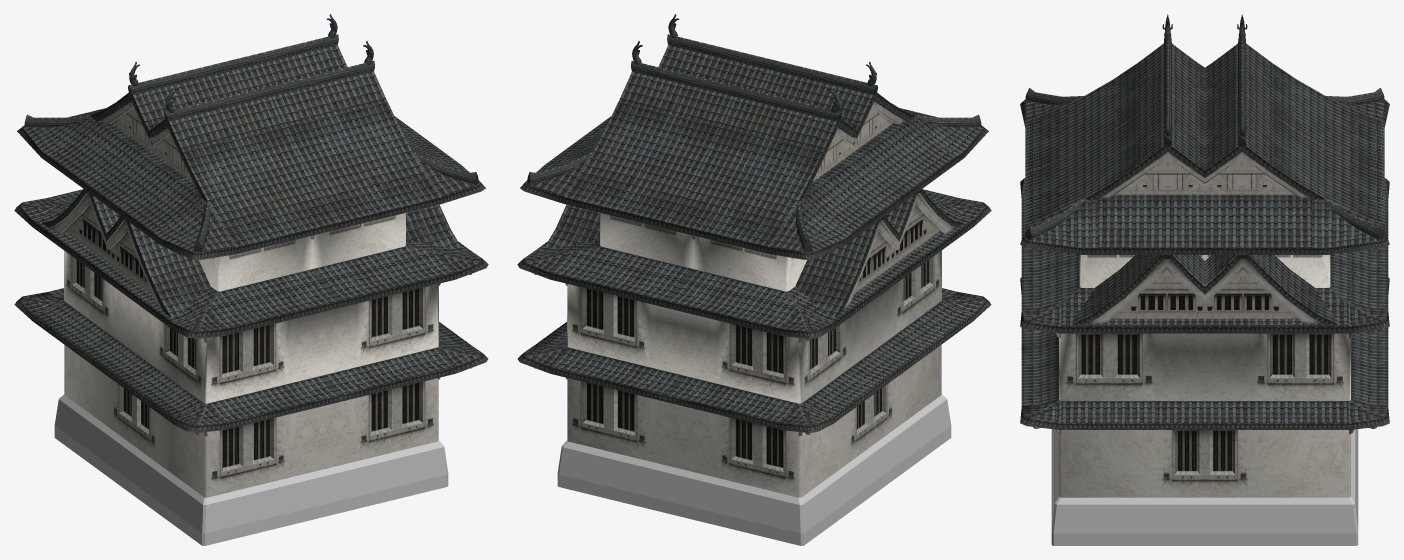
File: Outpost_typeA.fbx
The picture shows the model from 3 angles, left to right: view 1: azimuth 30°, elevation 25°; view 2: azimuth 150°, elevation 25°; view 3: azimuth 270°, elevation 25°; orthographic projection. The views are drawn at different scales.
Visible parts, largest first — view 1: Outpost_typeA; view 2: Outpost_typeA; view 3: Outpost_typeA.
Part boxes in pixels (left/top/right/bottom): Outpost_typeA: left=14, top=14, right=488, bottom=545; Outpost_typeA: left=517, top=14, right=991, bottom=545; Outpost_typeA: left=1020, top=14, right=1389, bottom=545.
Size of the model in its own units: 582 by 760 by 604.
